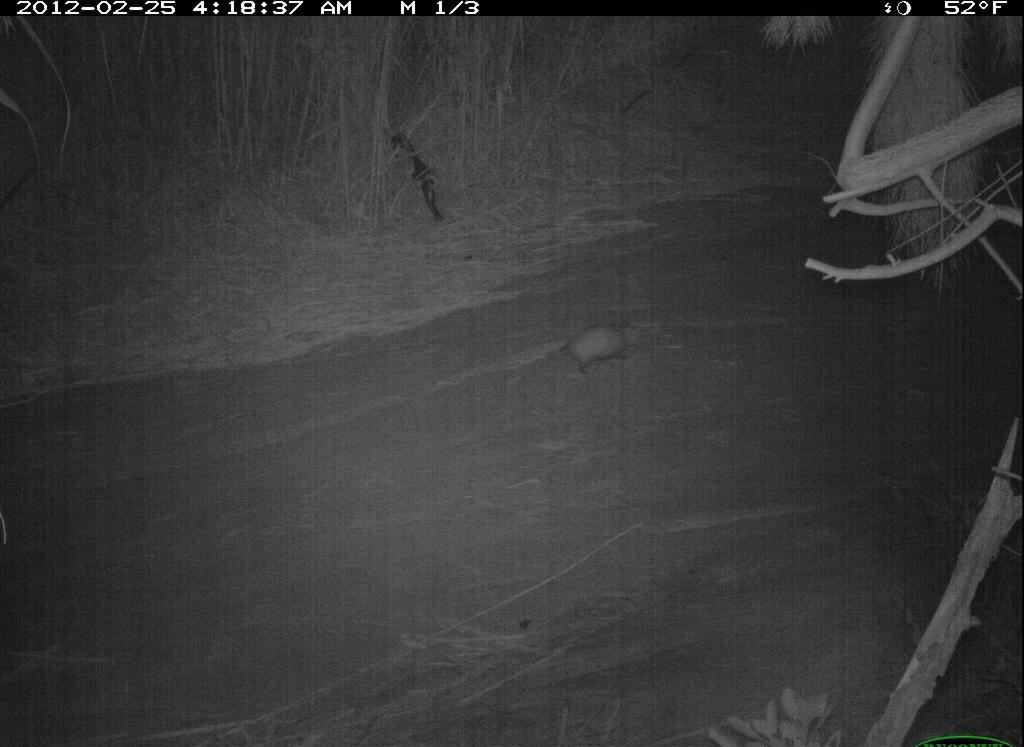opossum: (528, 309, 666, 383)
